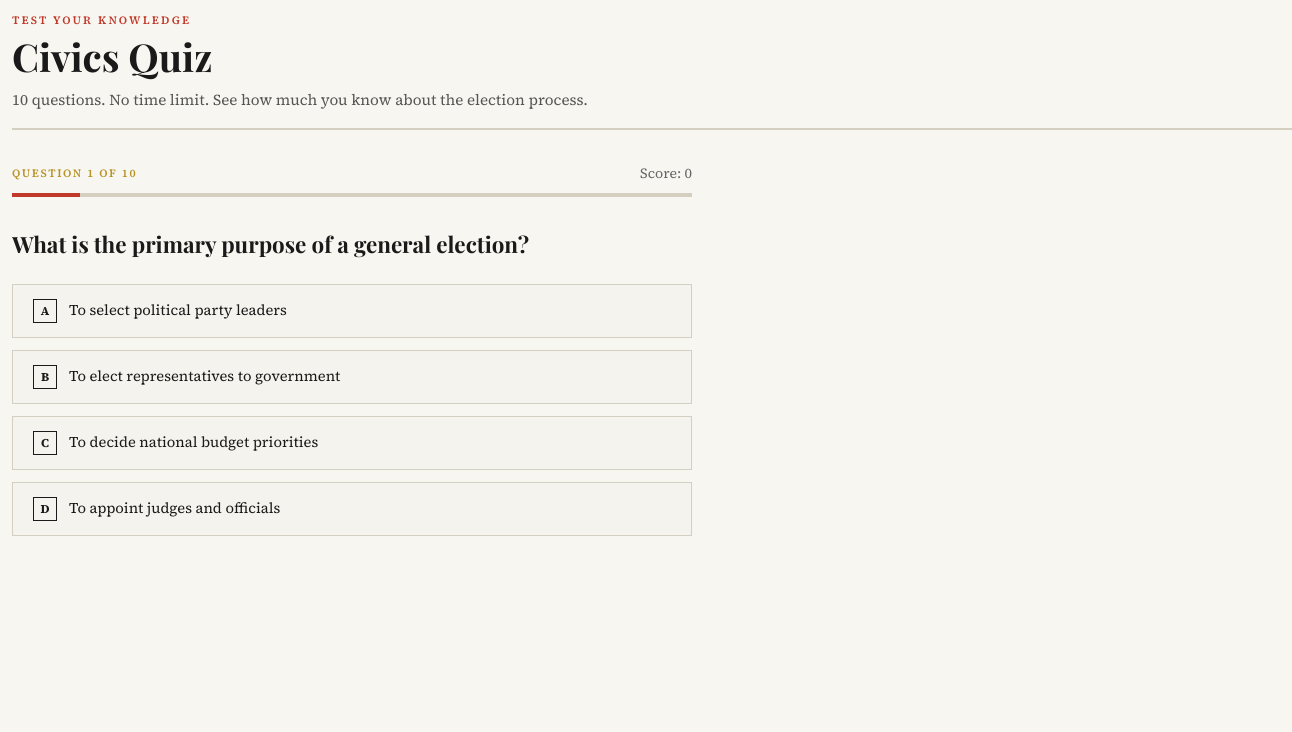
Test: Quiz Component › updates the score and shows final results
The first question answer is index 1 (Option B)
Click the button "B To elect representatives to government" at (205, 376), box [12,350,692,404]
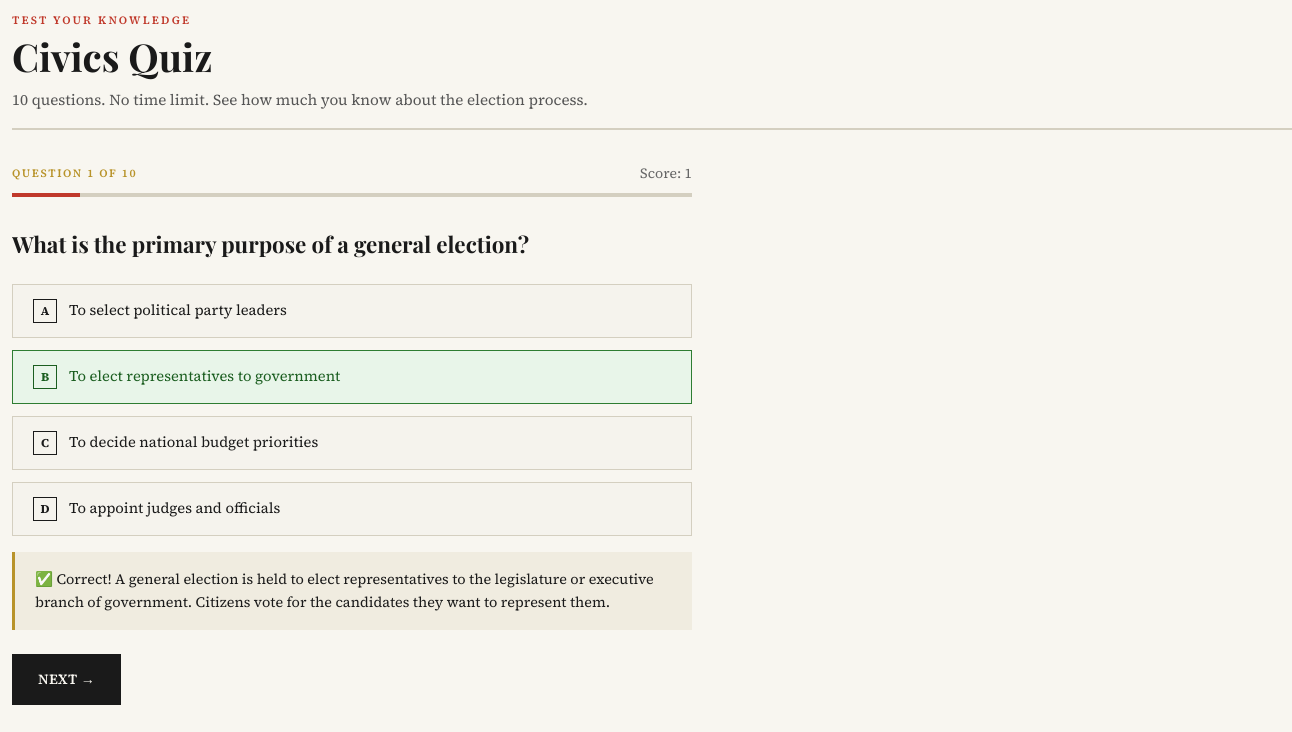
Result: the text "Score: 1" is shown at [640,162,692,185]
